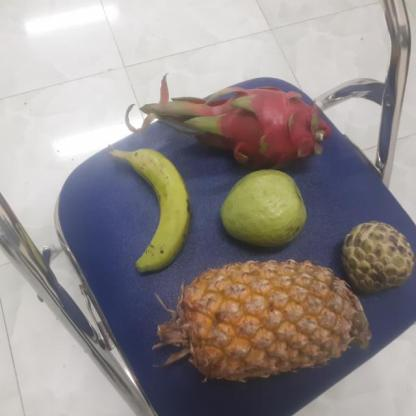annona: (336, 221, 414, 294)
banana: (115, 146, 191, 269)
guava: (216, 171, 307, 247)
pineapple: (174, 261, 362, 381)
pitaya: (207, 80, 325, 168)
